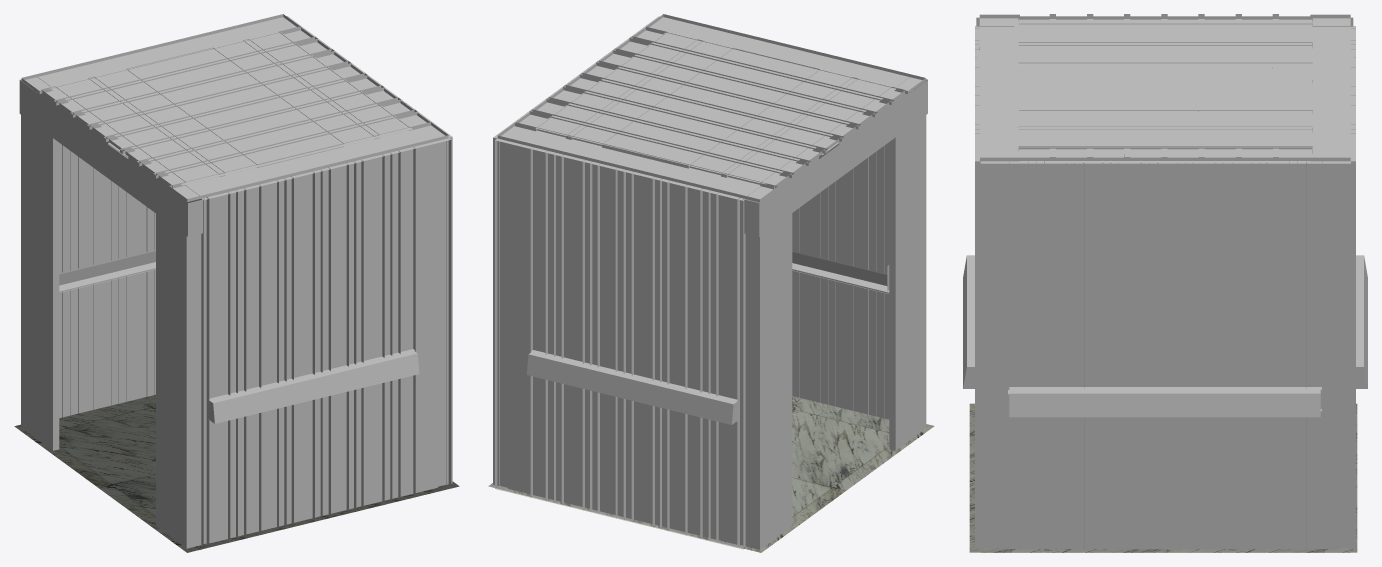
Rendered from SM_dianti.FBX.
3 views of the same model, side by side, from view 1: azimuth 30°, elevation 25°; view 2: azimuth 150°, elevation 25°; view 3: azimuth 270°, elevation 25° (orthographic). The views are drawn at different scales.
Visible parts, largest first — view 1: SM_dianti; view 2: SM_dianti; view 3: SM_dianti.
Boxes of the visible parts, bbox=[...] form: SM_dianti: bbox=[14, 14, 459, 552]; SM_dianti: bbox=[488, 14, 934, 552]; SM_dianti: bbox=[963, 14, 1367, 552].
Size of the model in its own units: 261 by 311 by 290.
